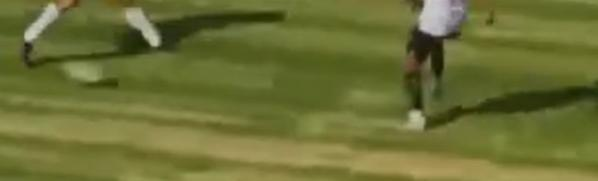ball: (62, 54, 114, 86)
